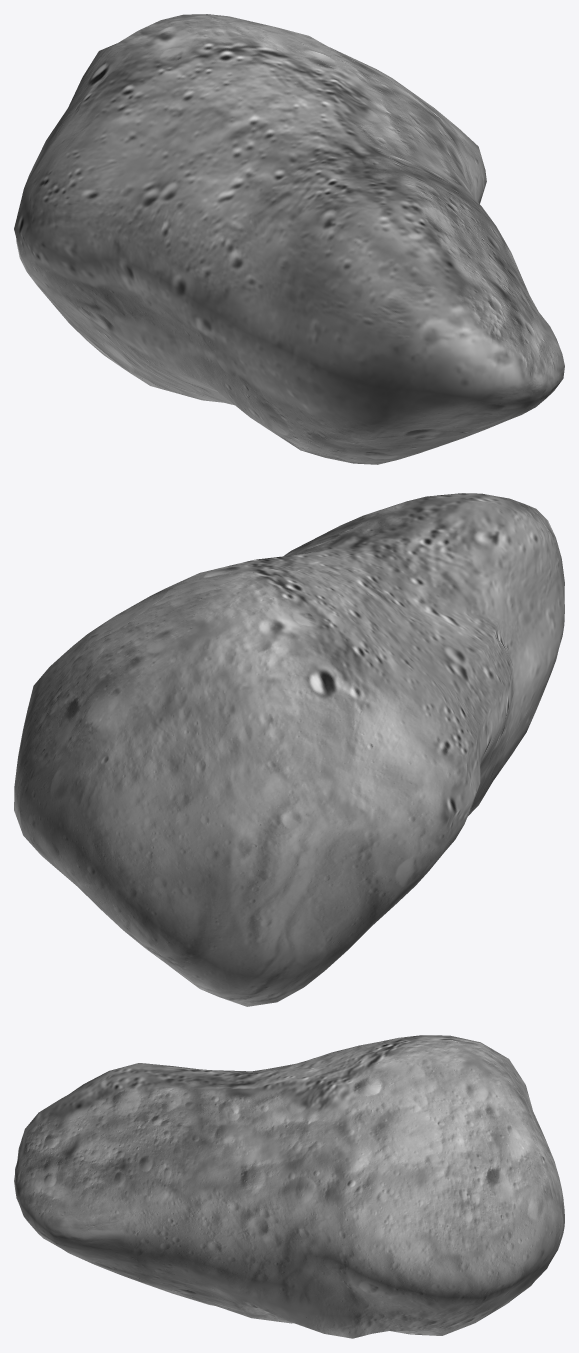
The model's file is gaspra.glb.
3 views of the same model, one above another, from view 1: azimuth 30°, elevation 25°; view 2: azimuth 150°, elevation 25°; view 3: azimuth 270°, elevation 25° (orthographic). The views are drawn at different scales.
Parts seen in each view (by area): view 1: Gaspra; view 2: Gaspra; view 3: Gaspra.
Part boxes in pixels (x1,y1,x2,y2): Gaspra: (14,14,564,464); Gaspra: (14,493,564,1006); Gaspra: (14,1035,564,1338).
Size of the model in its own units: 12933 by 10631 by 18542.
Materials: 1 (1 with a texture image).
